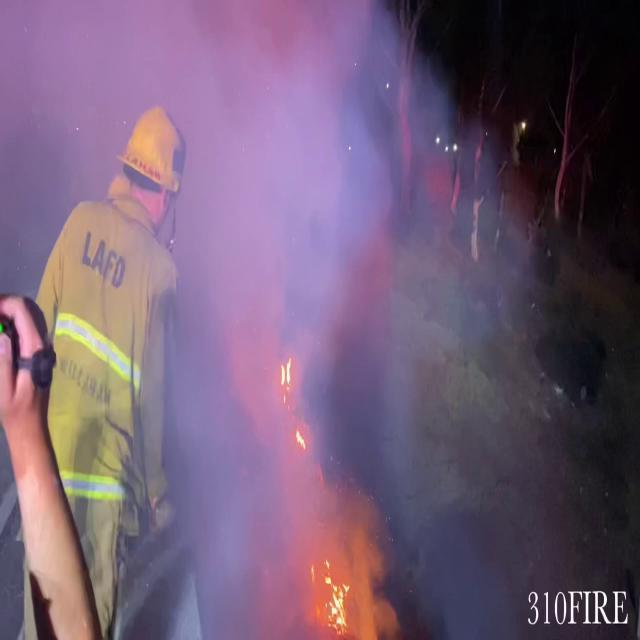Smoke: (122, 0, 524, 628)
